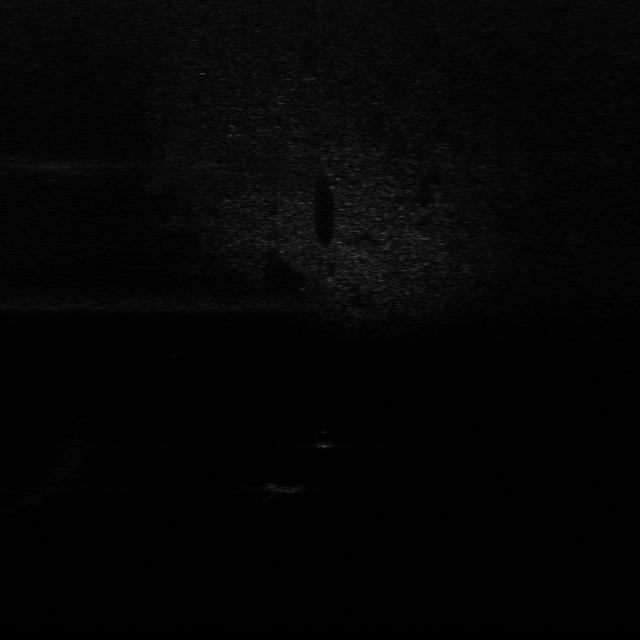ball: (311, 429, 337, 449)
square cage: (260, 480, 322, 498)
